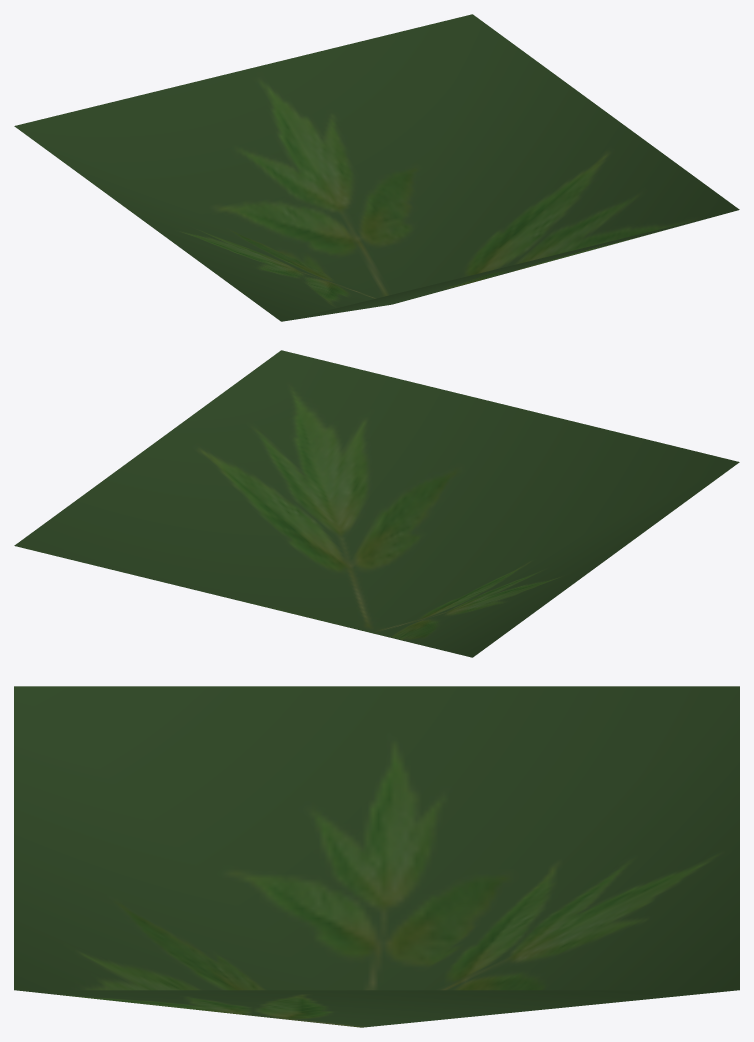
The model's file is Ground_cover26_LOD3.fbx.
3 views of the same model, one above another, from view 1: azimuth 30°, elevation 25°; view 2: azimuth 150°, elevation 25°; view 3: azimuth 270°, elevation 25° (orthographic). The views are drawn at different scales.
Parts seen in each view (by area): view 1: polySurface895; view 2: polySurface895; view 3: polySurface895.
Part boxes in pixels (<box>): polySurface895: <box>14,14,739,321</box>; polySurface895: <box>14,350,739,657</box>; polySurface895: <box>14,686,739,1027</box>.
Size of the model in its own units: 57.45 by 16.14 by 57.99.
